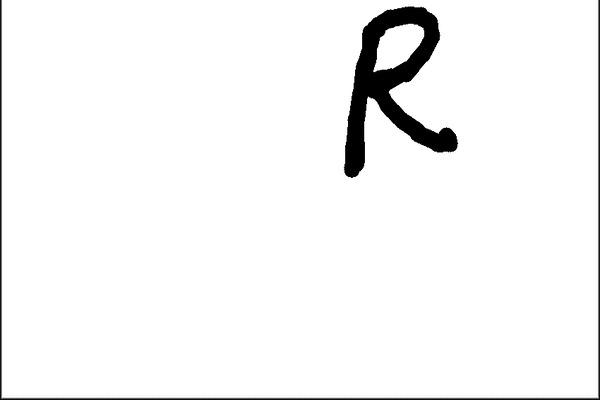R: (328, 0, 468, 191)
